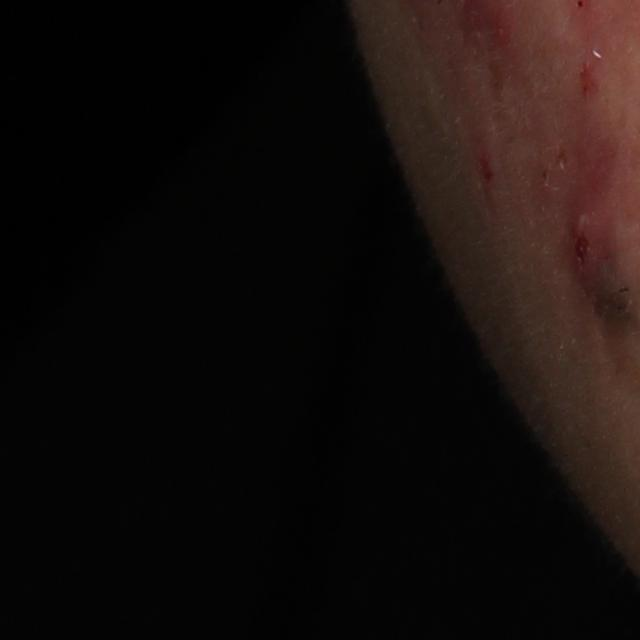papule: (564, 200, 610, 292), (576, 58, 602, 97)
